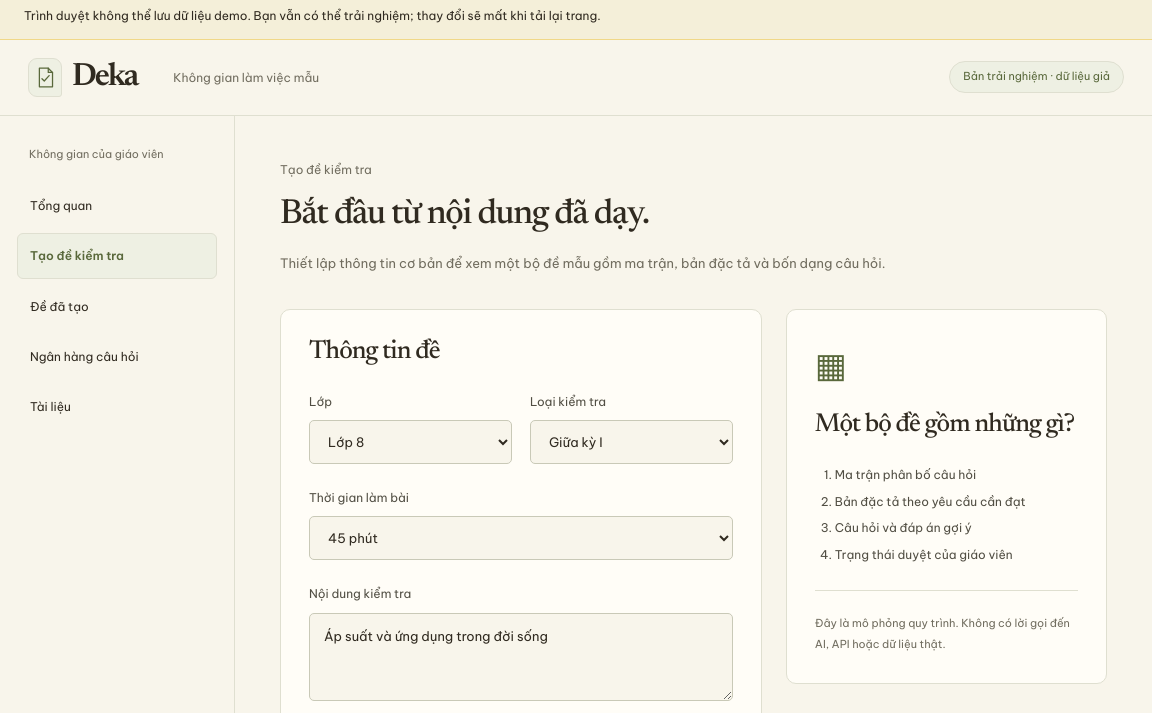
Test case: public demo edge cases › keeps creation and approvals usable when localStorage.getItem throws
The image size is (1152, 713).
Select "Lớp 7" in the dropdown labelled "Lớp" at (410, 442), box [309, 420, 512, 464]
(page scrolled)
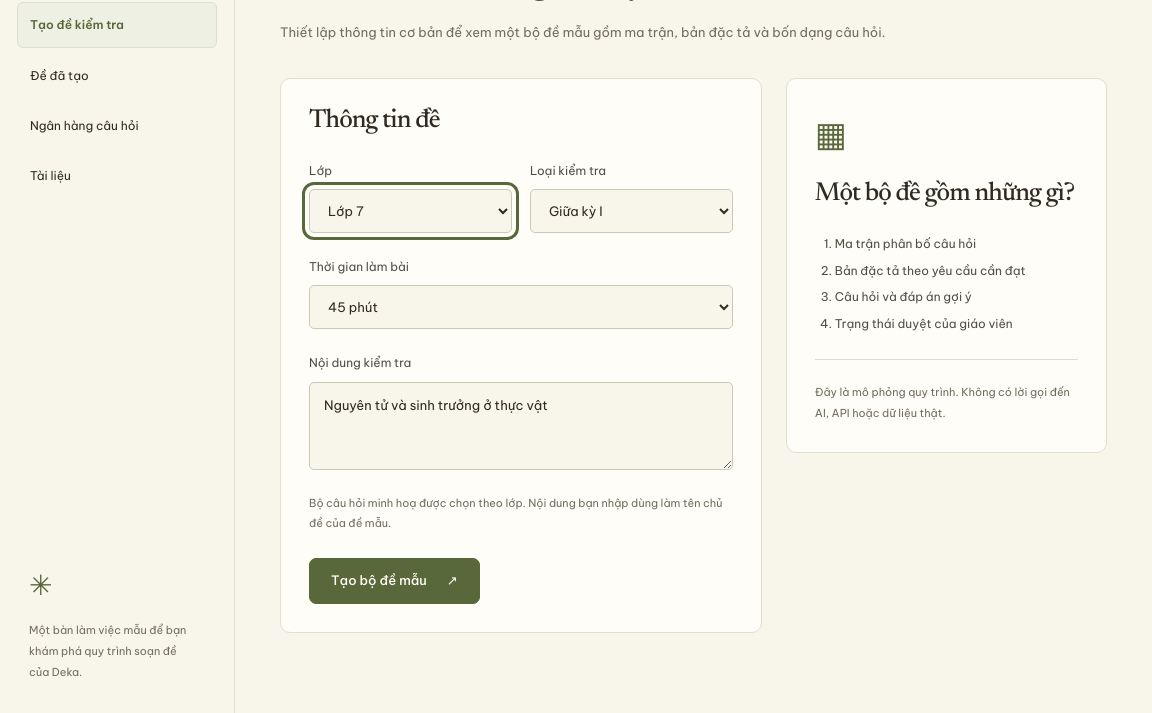
Click the button "Tạo bộ đề mẫu ↗".
click(394, 581)  # box [309, 558, 480, 604]
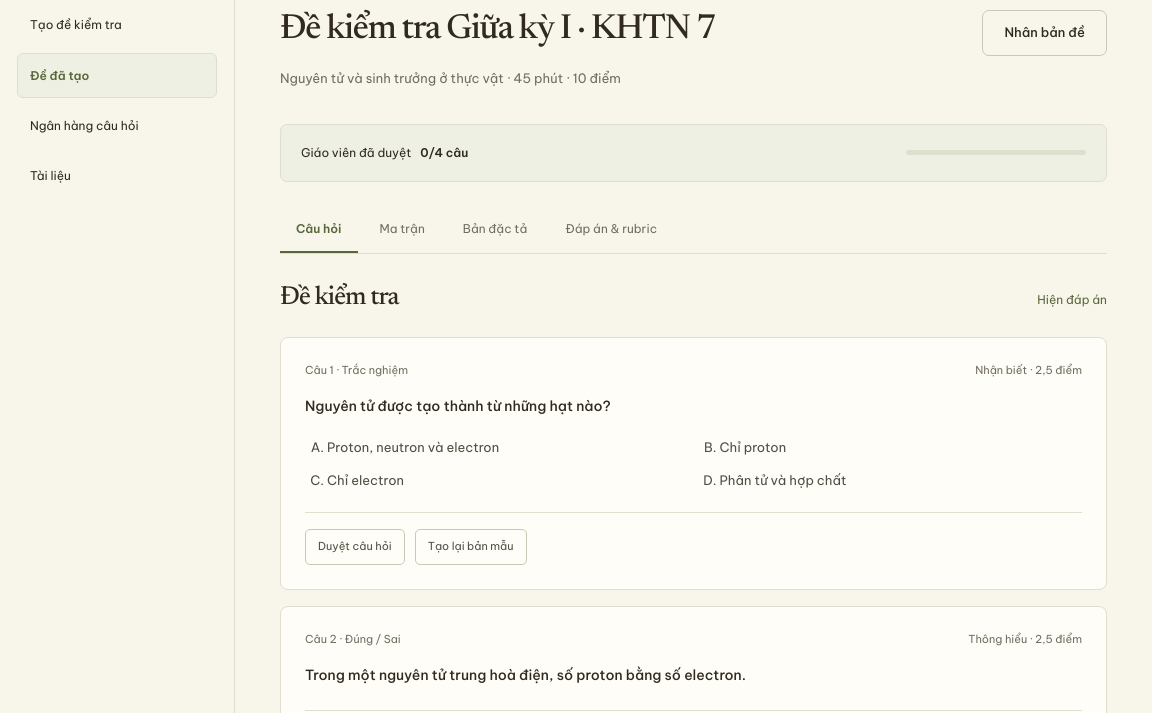
Check: the heading "Đề kiểm tra Giữa kỳ I · KHTN 7" is shown, box [280, 11, 715, 51]
Click the button "Duyệt câu hỏi".
click(355, 547)  # box [305, 529, 405, 565]
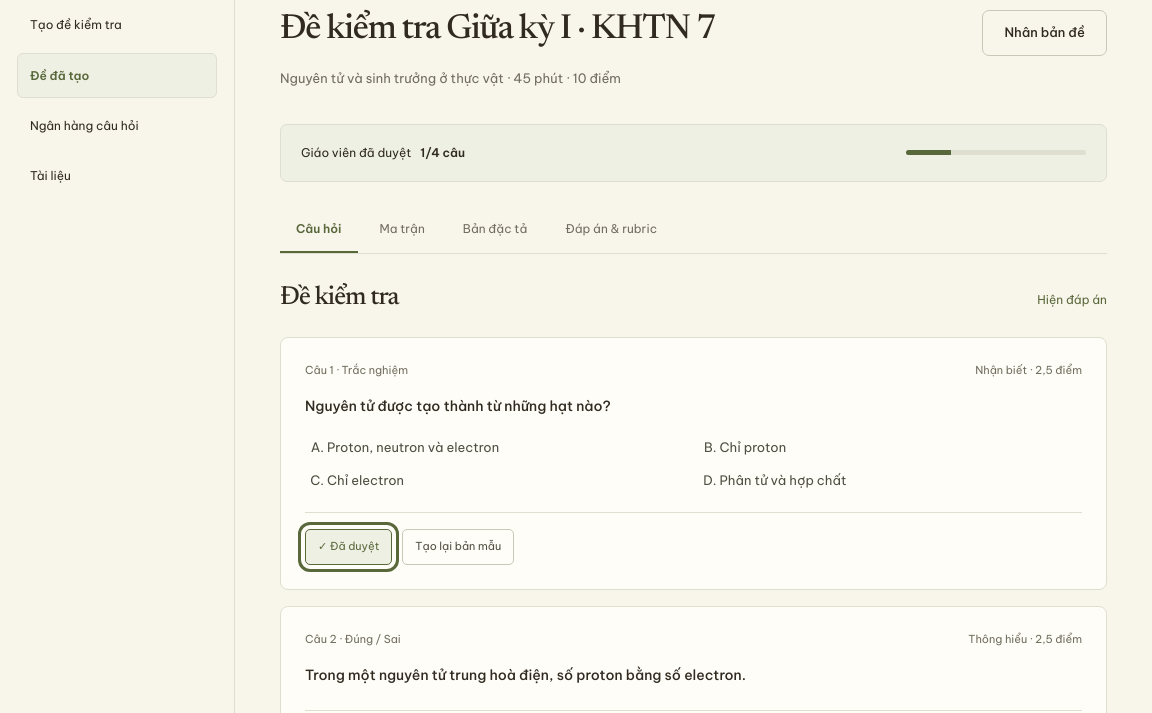
Click the link "Ngân hàng câu hỏi".
click(84, 125)  # box [30, 118, 139, 133]
(page scrolled)
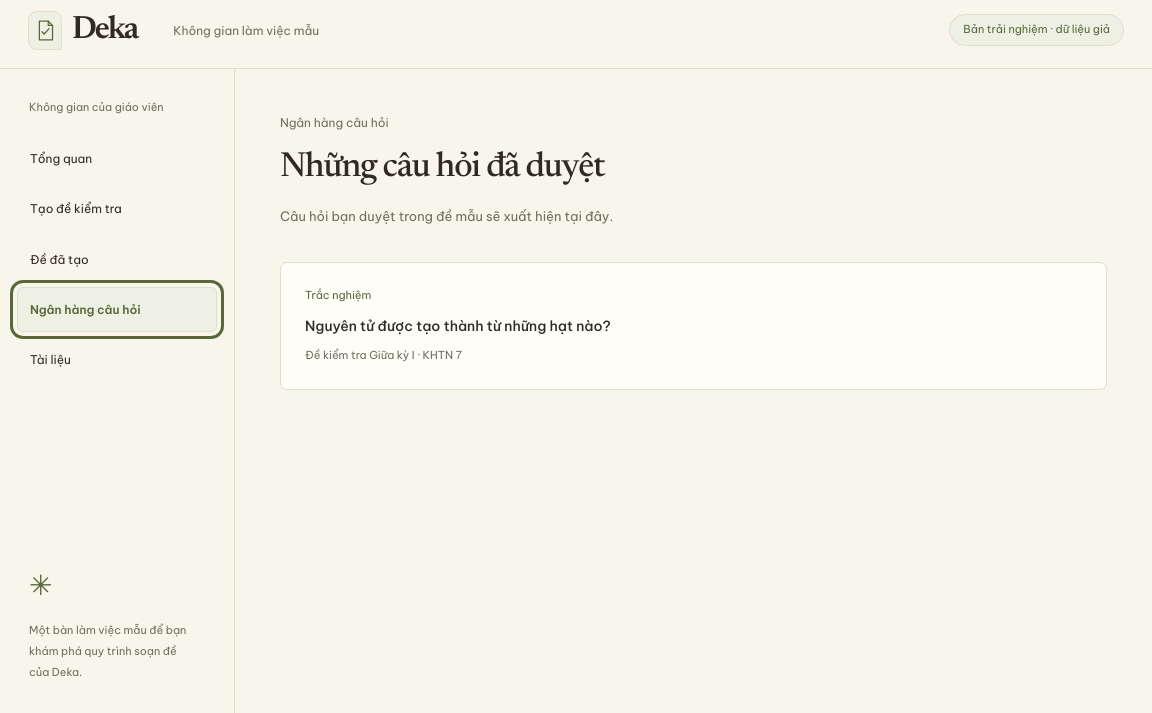
Check: the text "Nguyên tử được tạo thành từ những hạt nào?" is shown, box [305, 317, 611, 335]
Click the link that starts with "Trắc nghiệm".
click(338, 295)  # box [280, 262, 1107, 390]
(page scrolled)
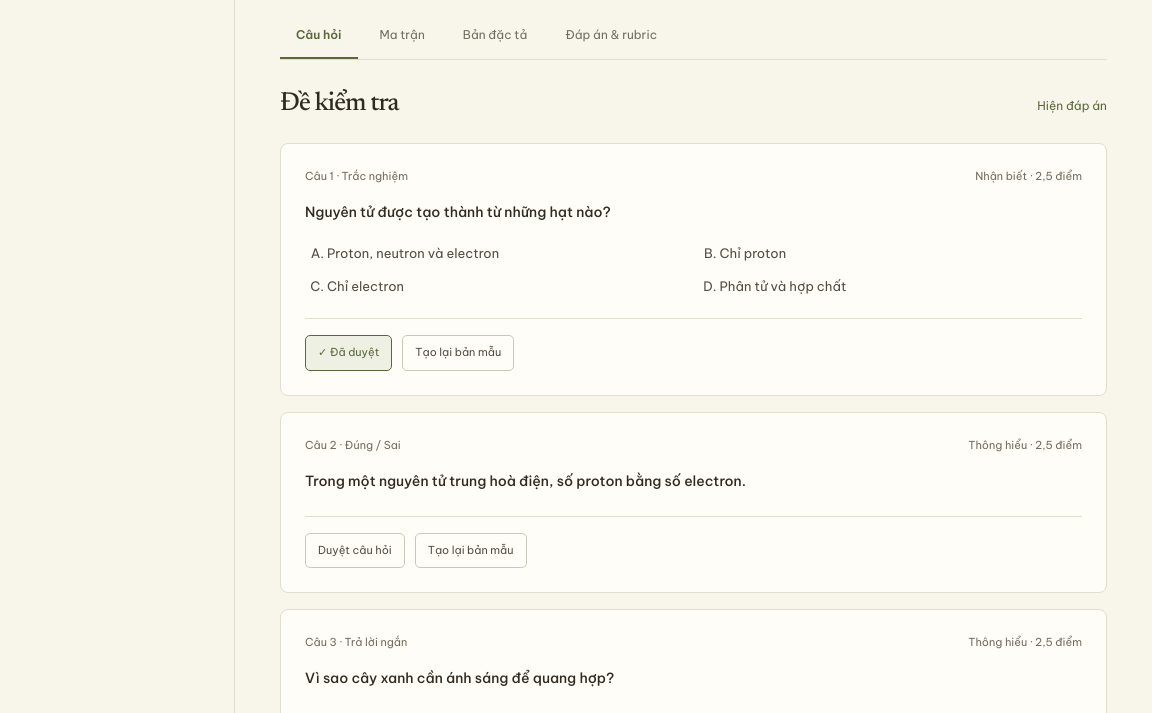
Check: the button "✓ Đã duyệt" is shown, box [305, 335, 392, 371]
